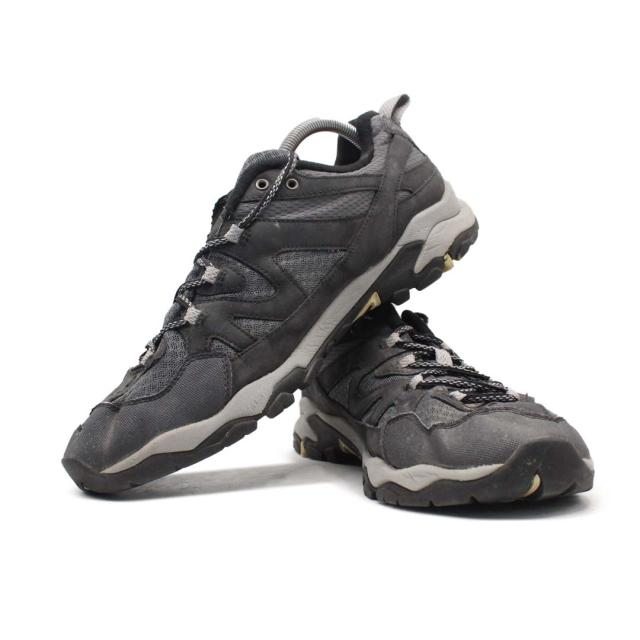heel: (364, 96, 451, 220)
midsole: (64, 182, 477, 497), (294, 397, 593, 511)
uppersole: (65, 155, 412, 469), (320, 312, 592, 469)
